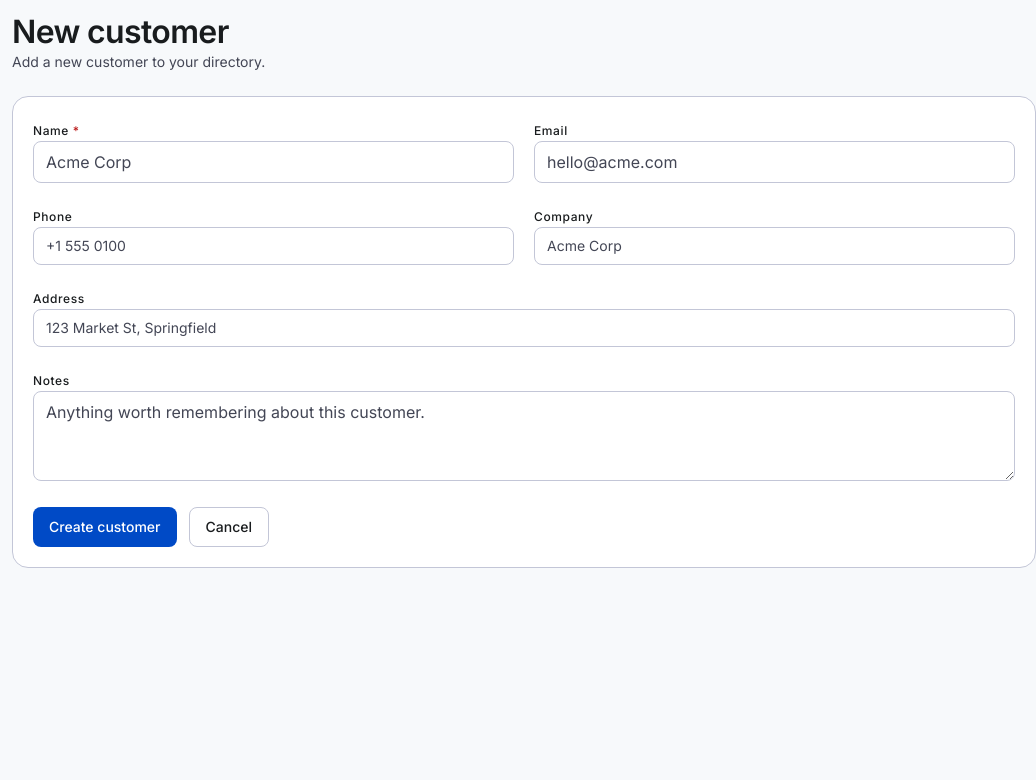
CustomerForm — validation › rejects an invalid email format
The width and height of the screenshot is (1036, 780).
Type "Bob" into the field labelled "Name *" at (274, 162), box [33,141,514,183]
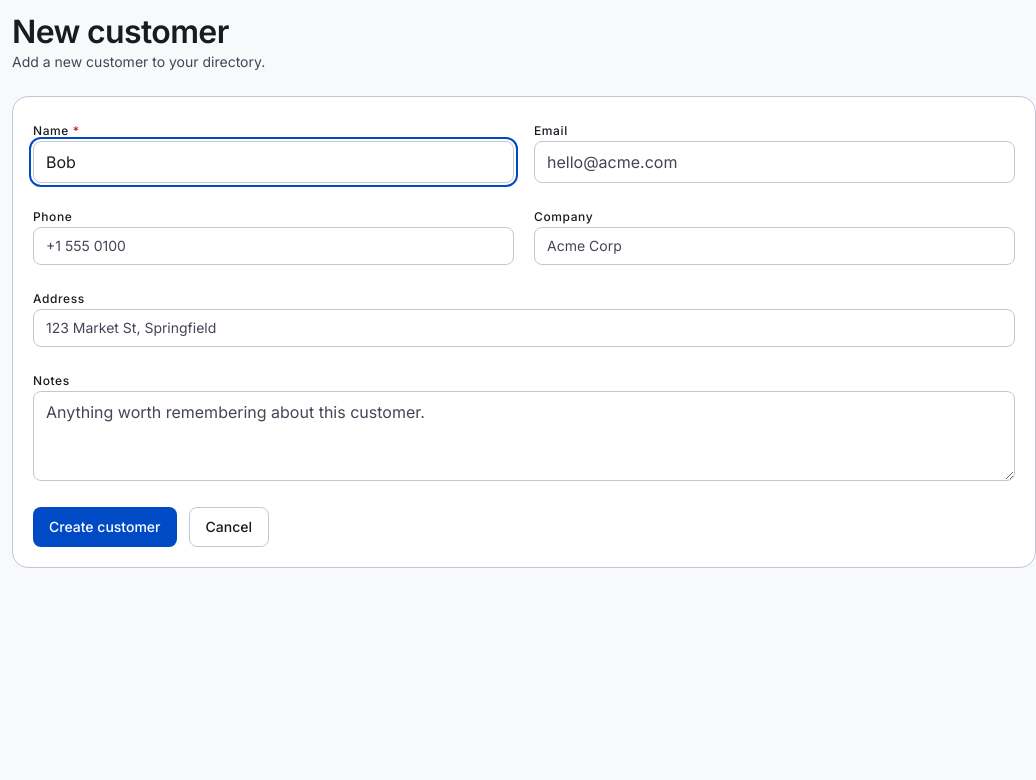
Type "not-an-email" into the field labelled "Email" at (774, 162), box [534,141,1015,183]
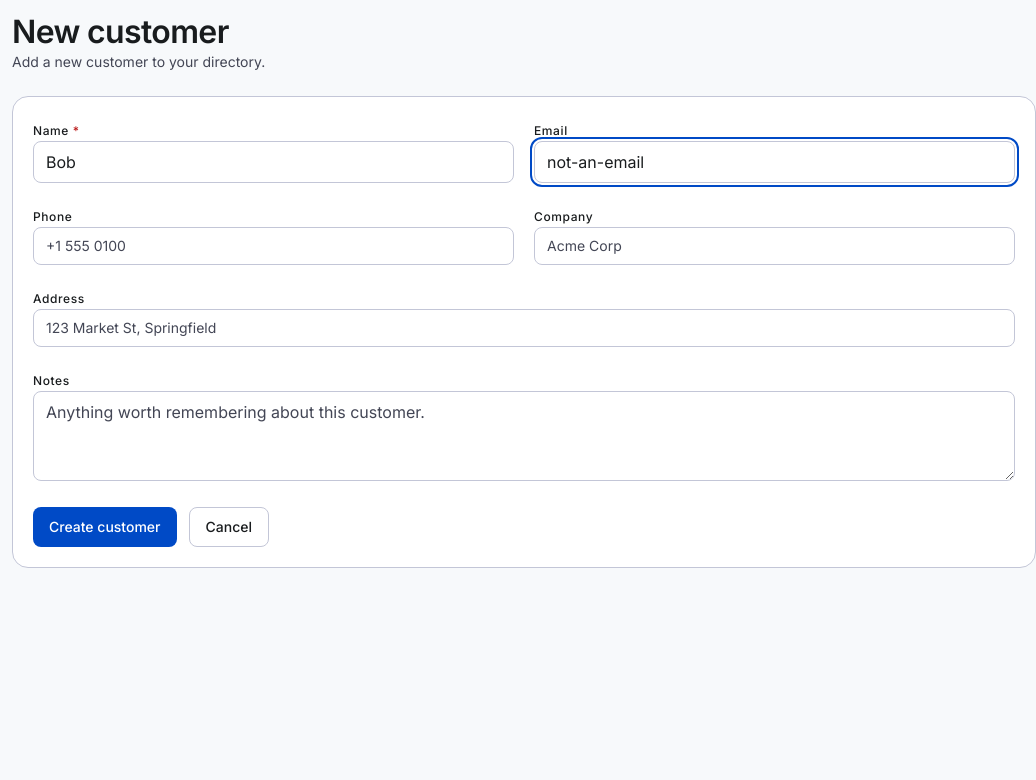
Click the button "Create customer" at (105, 527), box [33,507,176,547]
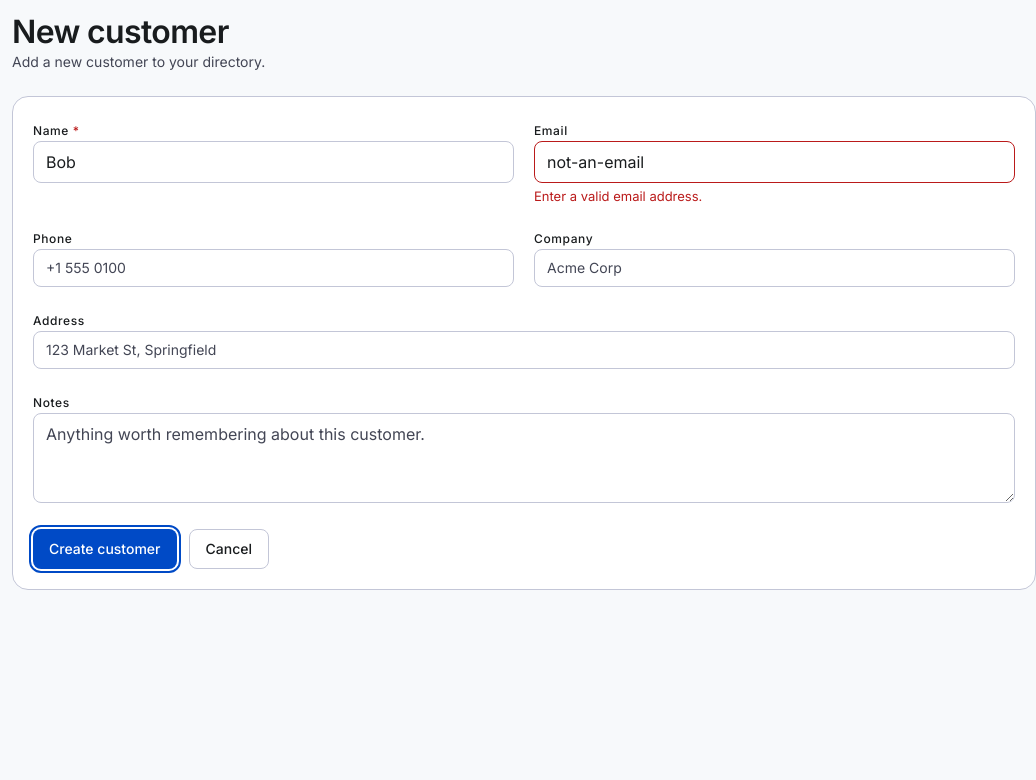
Check: the text "Enter a valid email address." is shown, box [534,188,702,204]
